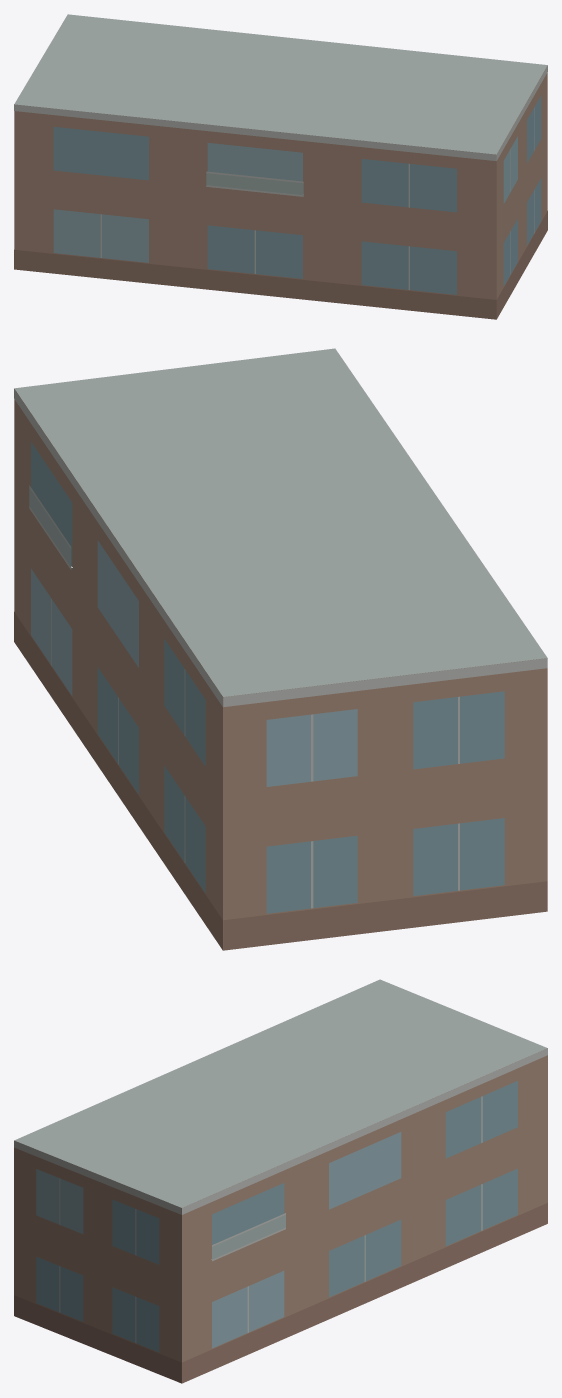
File: survey-upis-32581198.glb
The picture shows the model from 3 angles, top to bottom: view 1: azimuth 30°, elevation 25°; view 2: azimuth 150°, elevation 25°; view 3: azimuth 270°, elevation 25°; orthographic projection. The views are drawn at different scales.
Parts seen in each view (by area): view 1: survey-upis-32581198.tmp; view 2: survey-upis-32581198.tmp; view 3: survey-upis-32581198.tmp.
Boxes of the visible parts, left/top/right/bottom form: survey-upis-32581198.tmp: left=14, top=14, right=547, bottom=319; survey-upis-32581198.tmp: left=14, top=348, right=547, bottom=950; survey-upis-32581198.tmp: left=14, top=979, right=547, bottom=1383.
Size of the model in its own units: 17.05 by 6.1 by 16.82.
